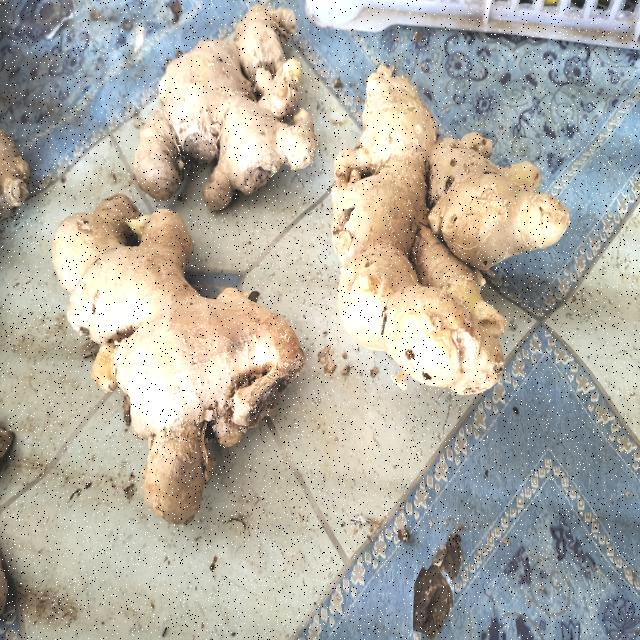ginger: (326, 44, 580, 418), (23, 192, 300, 494), (136, 0, 322, 206)
